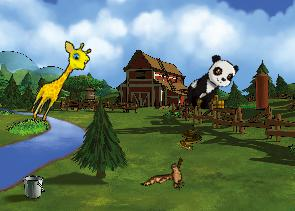eagle: (140, 147, 197, 206)
giraffe: (26, 35, 95, 129)
panda: (180, 50, 241, 117)
